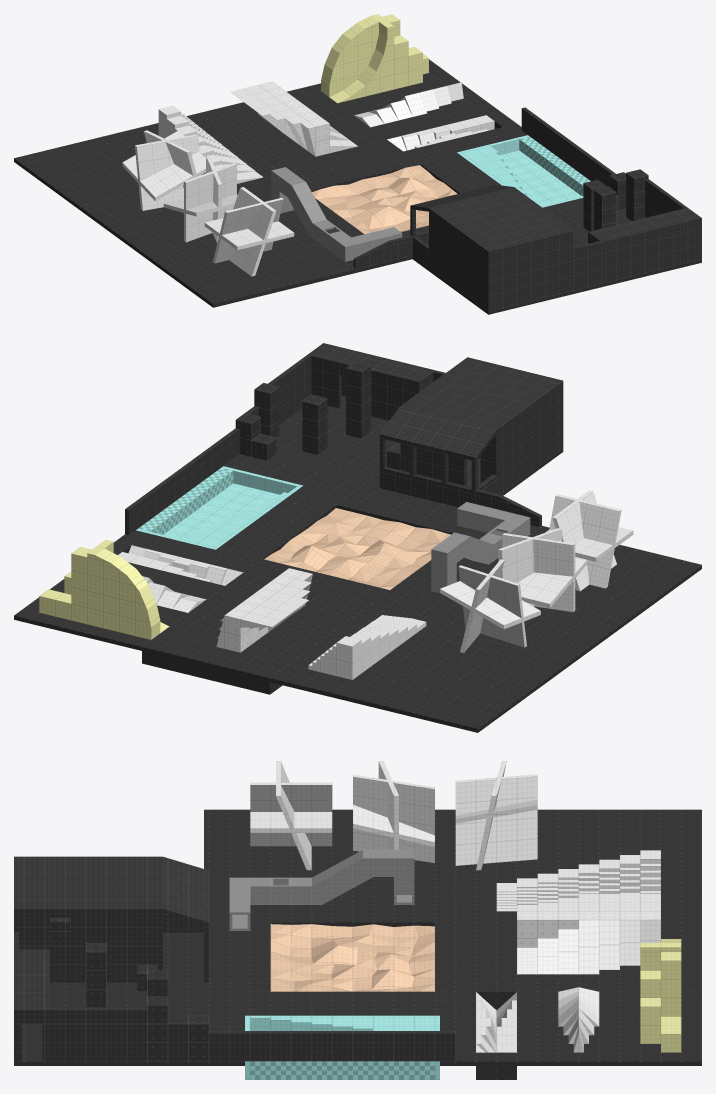
The model's file is gym.glb.
The picture shows the model from 3 angles, top to bottom: view 1: azimuth 30°, elevation 25°; view 2: azimuth 150°, elevation 25°; view 3: azimuth 270°, elevation 25°; orthographic projection. The views are drawn at different scales.
Parts seen in each view (by area): view 1: entity0_brush62, entity0_brush68, entity0_brush63, entity0_brush20, entity0_brush10, entity0_brush19, entity0_brush66, entity0_brush18, entity0_brush57, entity0_brush45, entity0_brush44, entity6_brush1 (+29 smaller); view 2: entity0_brush62, entity0_brush68, entity0_brush45, entity0_brush63, entity0_brush20, entity0_brush18, entity0_brush60, entity0_brush33, entity0_brush66, entity0_brush44, entity5_brush1, entity11_brush1 (+32 smaller); view 3: entity0_brush62, entity0_brush45, entity0_brush63, entity0_brush68, entity0_brush66, entity0_brush20, entity0_brush44, entity11_brush0, entity0_brush4, entity0_brush60, entity6_brush0, entity0_brush57 (+38 smaller).
Part boxes in pixels (x1=…): entity0_brush62: x1=14, y1=113, x2=275, y2=238; entity0_brush68: x1=199, y1=85, x2=419, y2=191; entity0_brush63: x1=118, y1=198, x2=363, y2=295; entity0_brush20: x1=429, y1=187, x2=573, y2=255; entity0_brush10: x1=574, y1=216, x2=701, y2=289; entity0_brush19: x1=492, y1=235, x2=570, y2=309; entity0_brush66: x1=313, y1=59, x2=499, y2=139; entity0_brush18: x1=429, y1=212, x2=491, y2=310; entity0_brush57: x1=196, y1=255, x2=412, y2=307; entity0_brush45: x1=412, y1=198, x2=701, y2=314; entity0_brush44: x1=521, y1=107, x2=615, y2=186; entity6_brush1: x1=184, y1=163, x2=236, y2=242; entity0_brush62: x1=270, y1=592, x2=595, y2=732; entity0_brush68: x1=142, y1=559, x2=389, y2=694; entity0_brush45: x1=224, y1=396, x2=563, y2=522; entity0_brush63: x1=388, y1=529, x2=683, y2=646; entity0_brush20: x1=401, y1=357, x2=563, y2=433; entity0_brush18: x1=492, y1=385, x2=563, y2=494; entity0_brush60: x1=216, y1=485, x2=346, y2=560; entity0_brush33: x1=379, y1=406, x2=496, y2=461; entity0_brush66: x1=14, y1=562, x2=224, y2=650; entity0_brush44: x1=125, y1=428, x2=239, y2=535; entity5_brush1: x1=549, y1=494, x2=621, y2=588; entity11_brush1: x1=458, y1=565, x2=526, y2=647; entity0_brush62: x1=440, y1=809, x2=701, y2=922; entity0_brush45: x1=14, y1=931, x2=244, y2=1065; entity0_brush63: x1=245, y1=809, x2=439, y2=926; entity0_brush68: x1=435, y1=922, x2=701, y2=1010; entity0_brush66: x1=517, y1=991, x2=701, y2=1065; entity0_brush20: x1=14, y1=856, x2=162, y2=913; entity0_brush44: x1=209, y1=1031, x2=455, y2=1061; entity11_brush0: x1=455, y1=774, x2=537, y2=865; entity0_brush4: x1=44, y1=1008, x2=147, y2=1061; entity0_brush60: x1=245, y1=991, x2=439, y2=1015; entity6_brush0: x1=353, y1=774, x2=434, y2=863; entity0_brush57: x1=204, y1=809, x2=244, y2=930.
Bounding box in the file's own units: 28.21 × 5.11 × 32.59.
12 materials, 12 textured.
